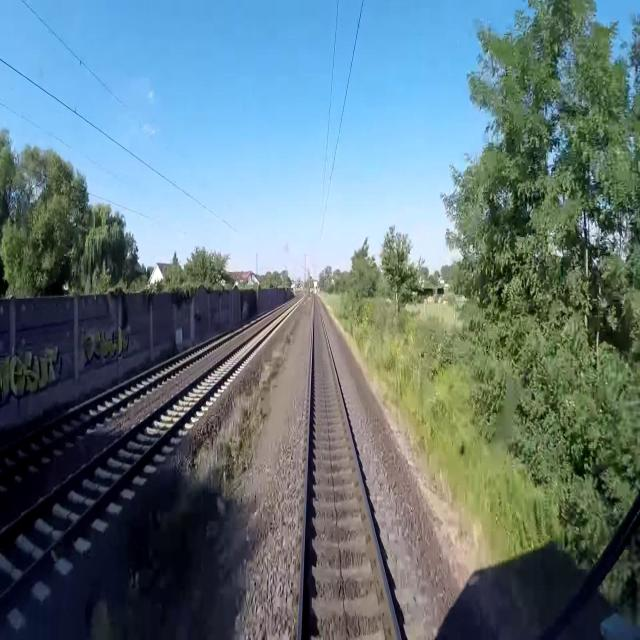rail-track: (0, 311, 287, 591), (0, 328, 240, 472), (301, 296, 396, 639)
